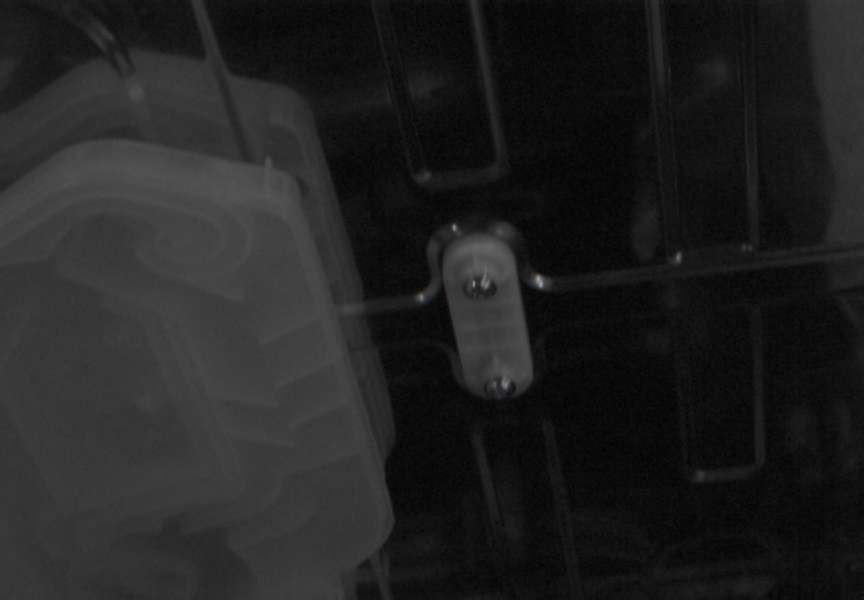screw: (463, 273, 497, 300), (484, 375, 517, 400)
